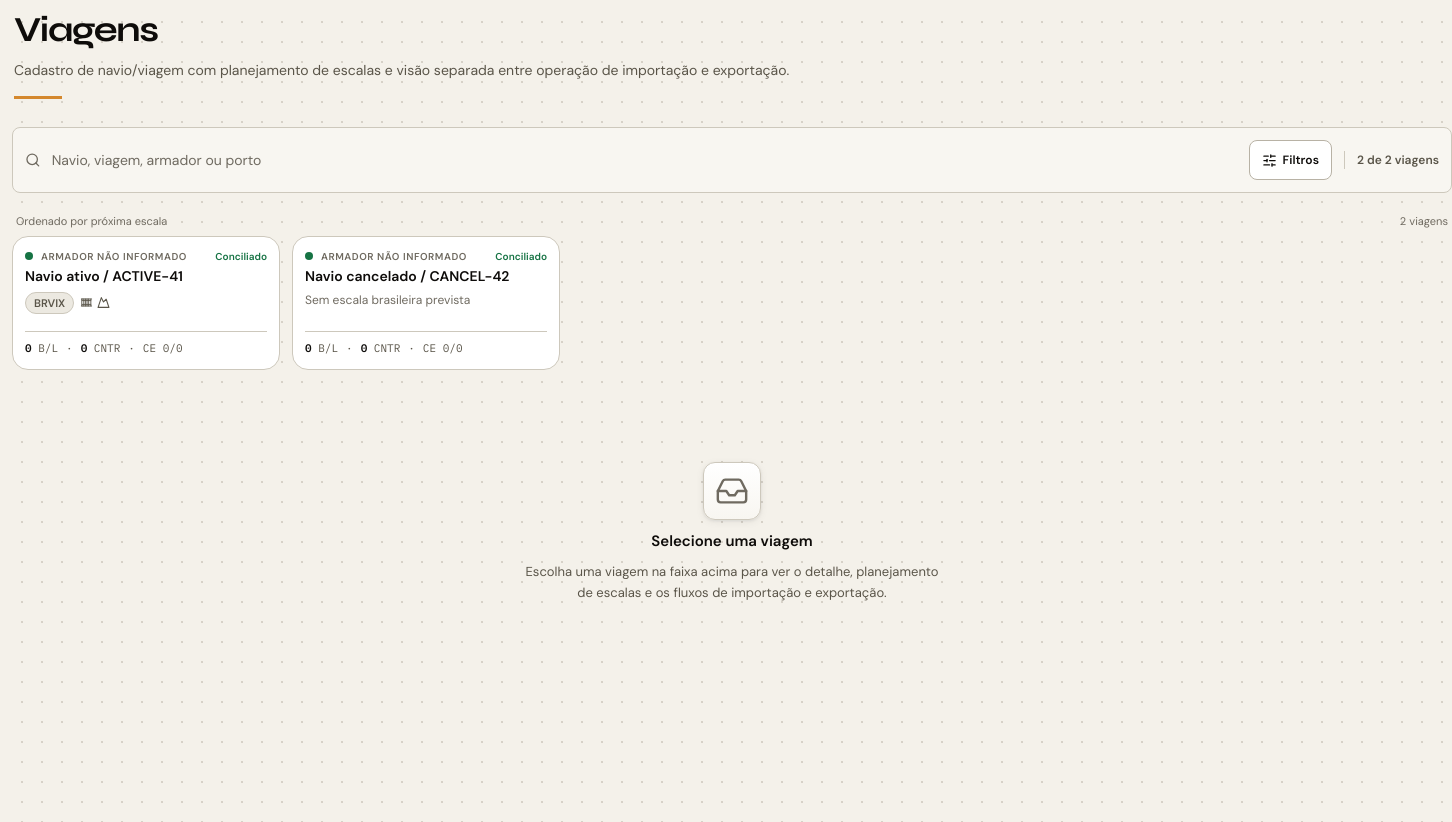
Test: mantém a busca visível e permite remover um filtro aplicado pelo chip
This screenshot has width=1452, height=822.
Expected: the search field named "Busca" is shown, 51,140 -> 1237,180
Click the button "Filtros". click: (1290,160)
box: 1249,140 -> 1332,180
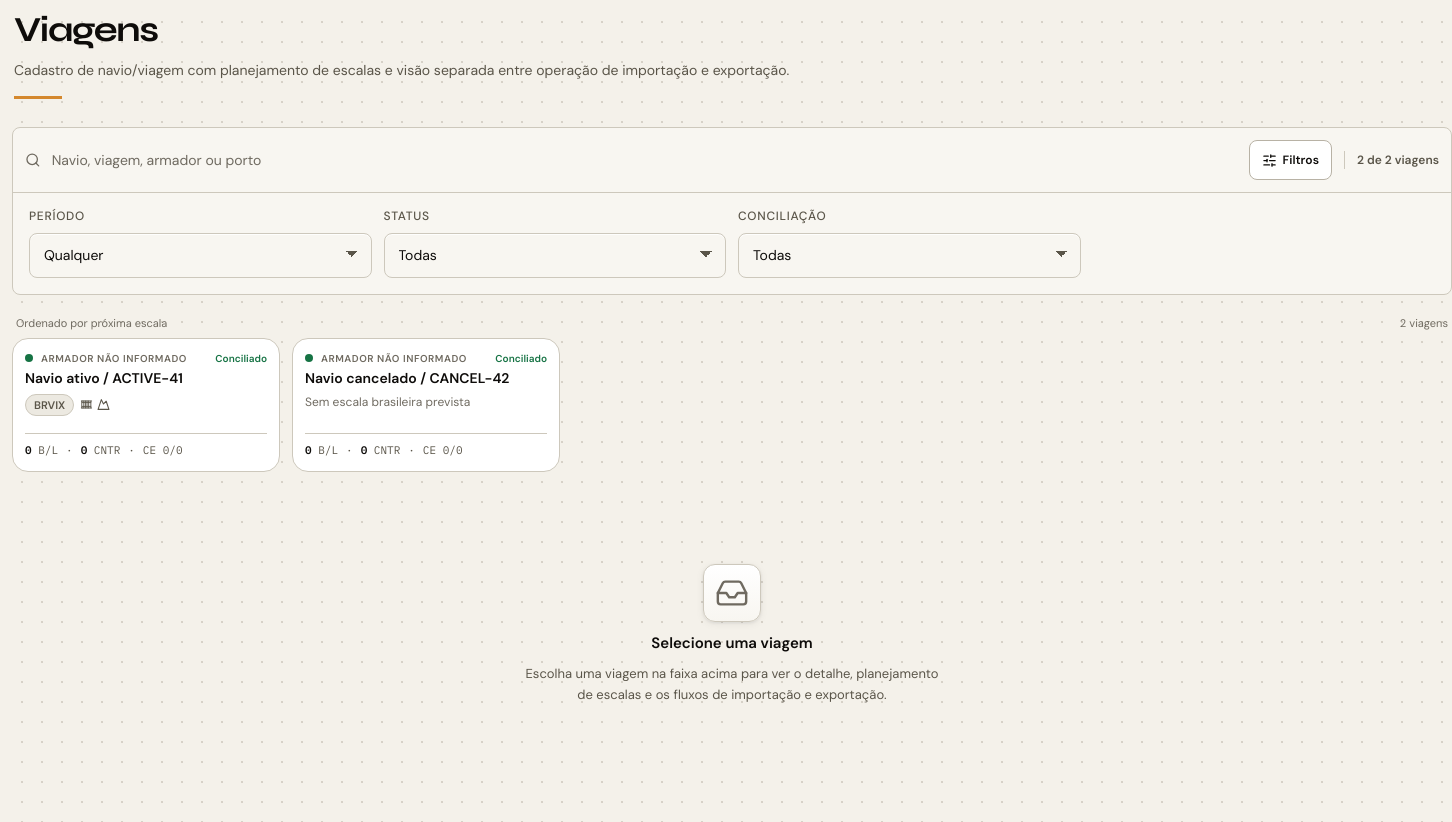
Select "Canceladas" in the dropdown labelled "Status". click: (555,256)
box: 384,233 -> 726,278
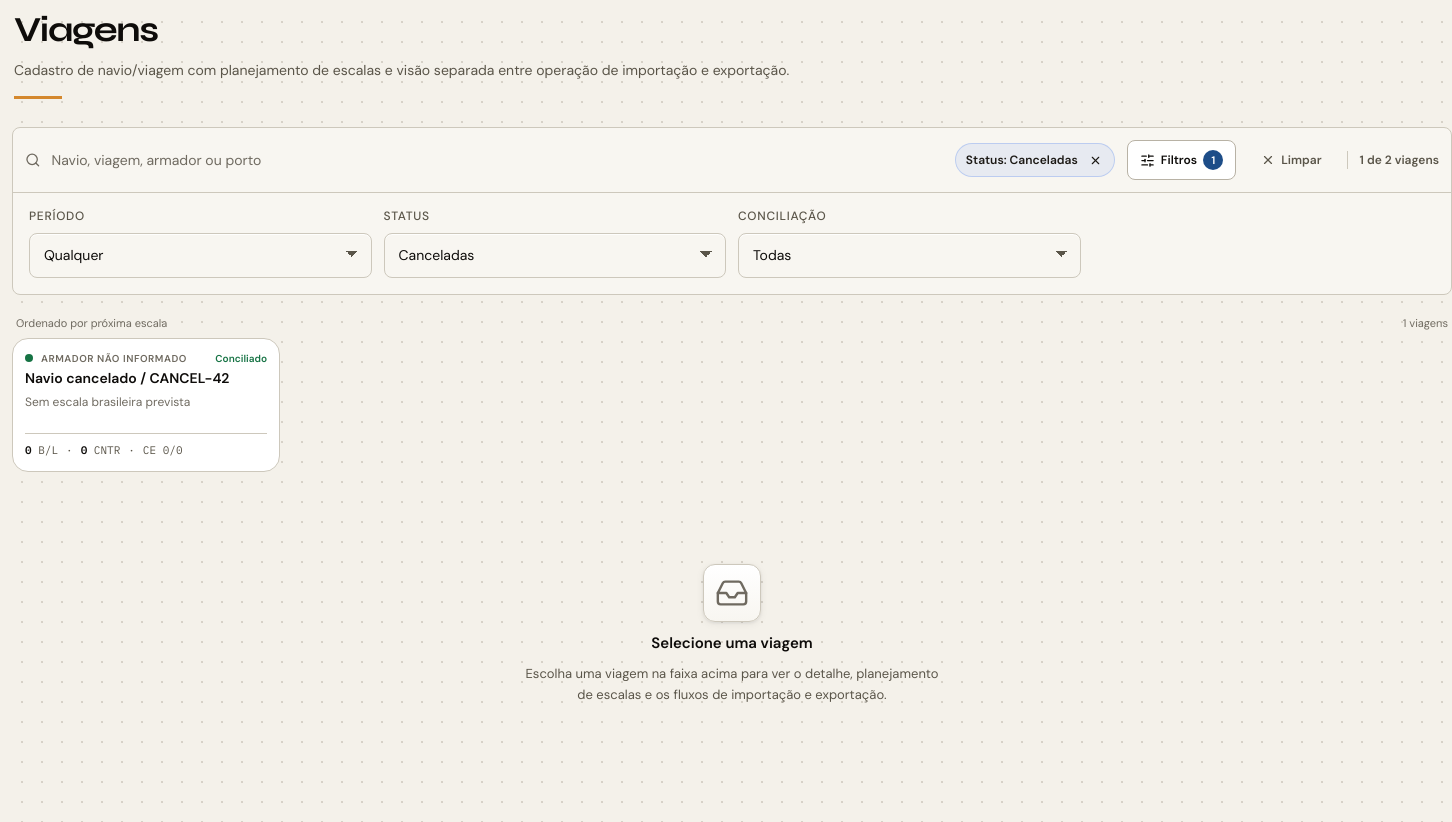
Result: the element named "Filtros aplicados" reads "Status: Canceladas" at 955,143 -> 1115,177
Click the button named "Remover filtro Status". click: (1096,160)
box: 1082,146 -> 1110,174
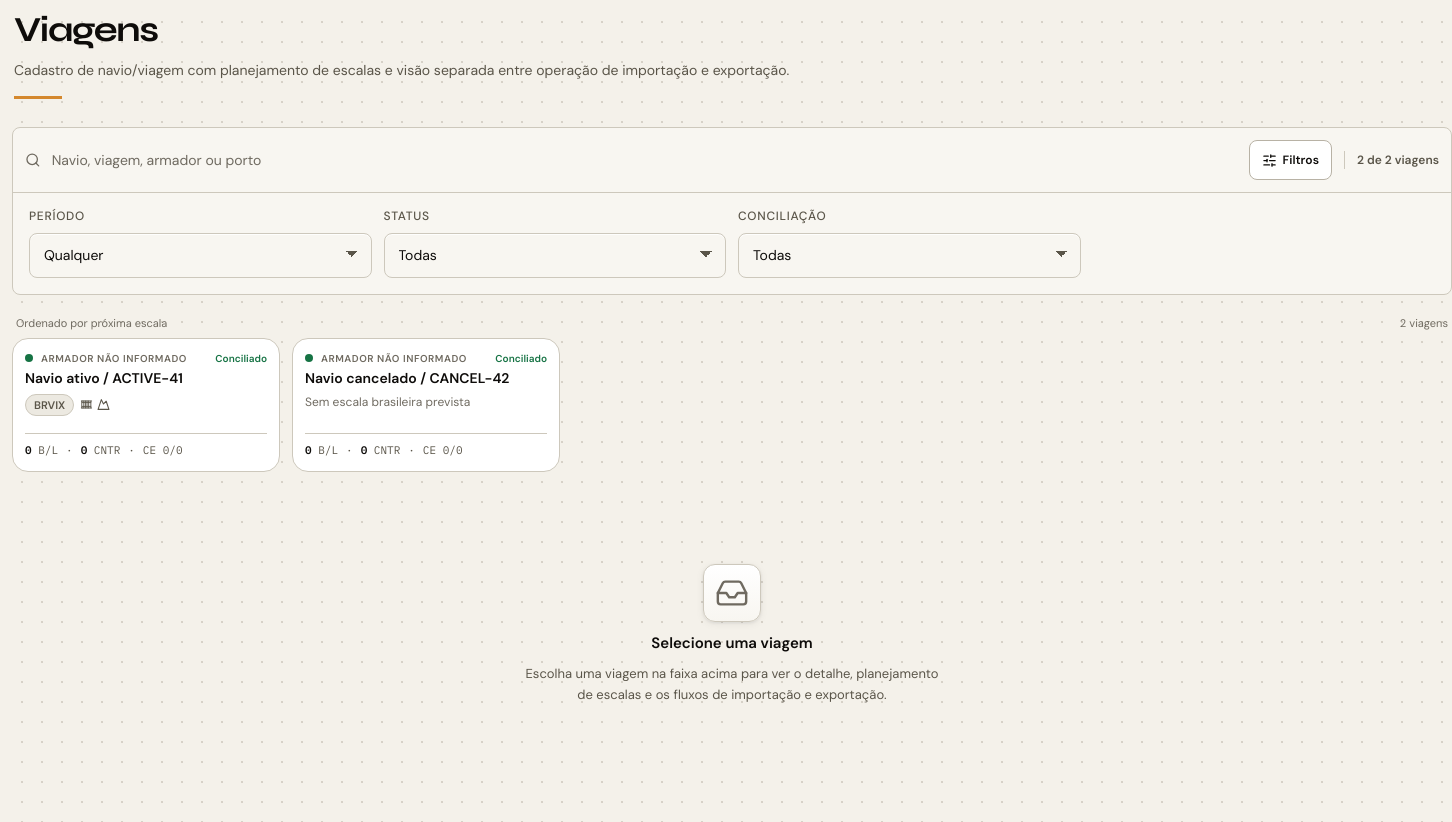
Result: the text "Navio ativo / ACTIVE-41" is shown at 25,368 -> 183,388
